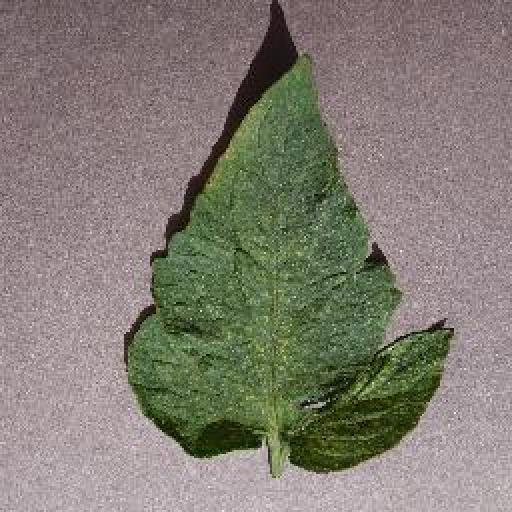Spider Mites: (122, 52, 454, 475)
